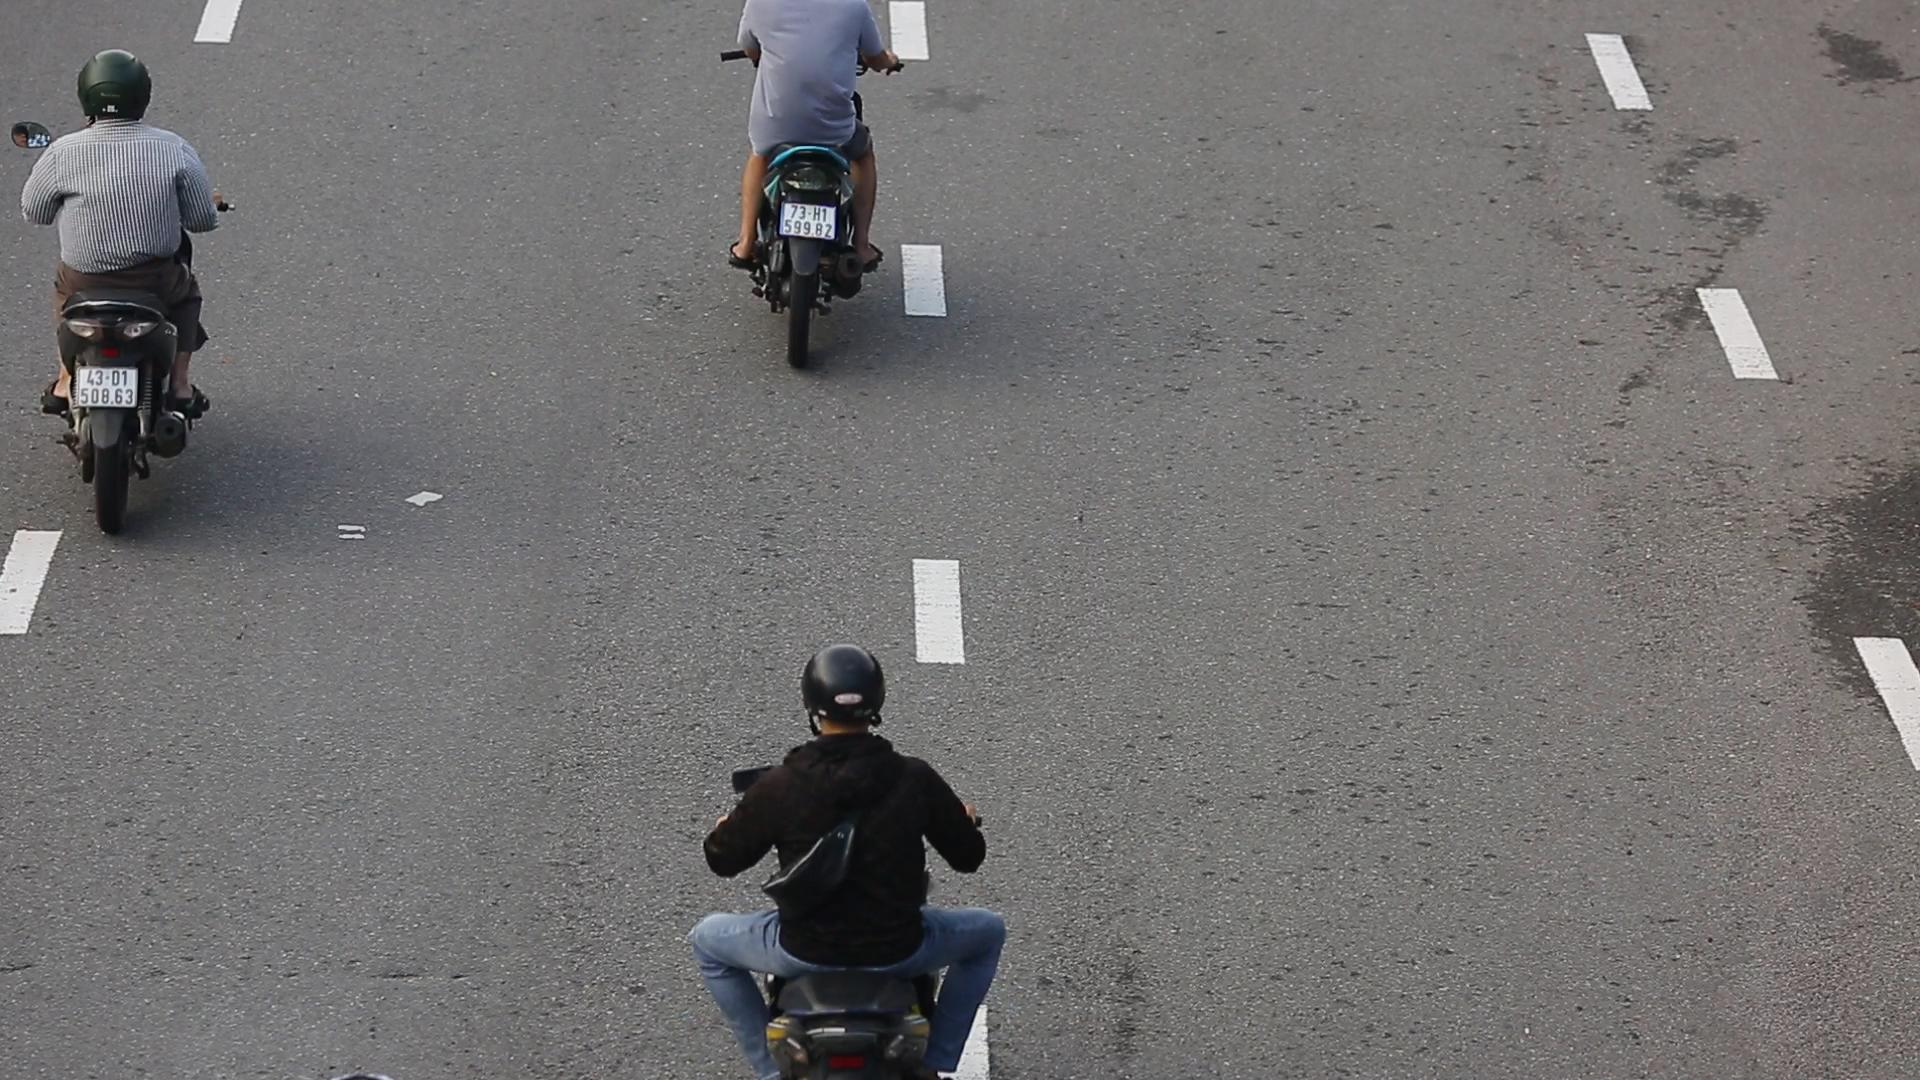motobike: (0, 44, 244, 555)
